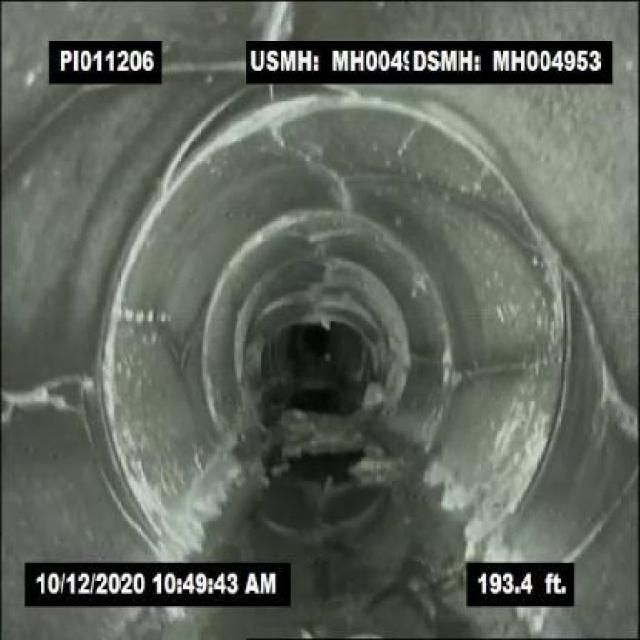Crack: (576, 272, 638, 443), (0, 354, 97, 444), (277, 128, 372, 208), (452, 172, 534, 260)
